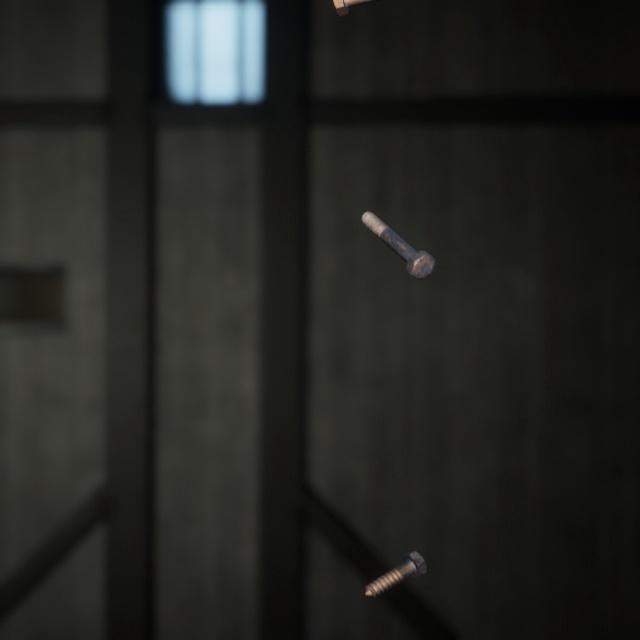bolt: (357, 192, 440, 269), (360, 524, 431, 579)
